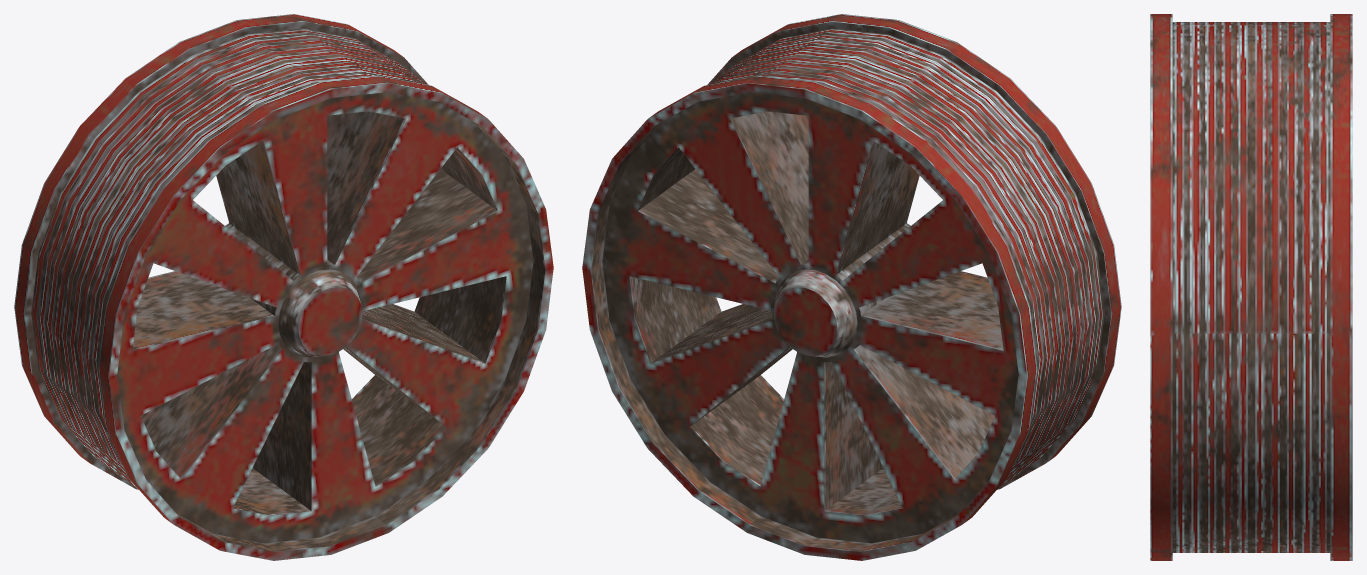
The model's file is Scrap_2.fbx.
The picture shows the model from 3 angles, left to right: view 1: azimuth 30°, elevation 25°; view 2: azimuth 150°, elevation 25°; view 3: azimuth 270°, elevation 25°; orthographic projection. The views are drawn at different scales.
Parts seen in each view (by area): view 1: Cylinder; view 2: Cylinder; view 3: Cylinder.
Boxes of the visible parts, <box> form: Cylinder: <box>14,14,553,560</box>; Cylinder: <box>582,14,1121,560</box>; Cylinder: <box>1150,14,1352,560</box>.
Size of the model in its own units: 116 by 116 by 42.83.
